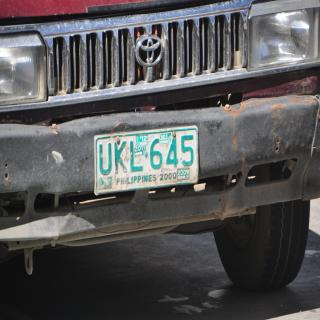license: (95, 127, 200, 196)
